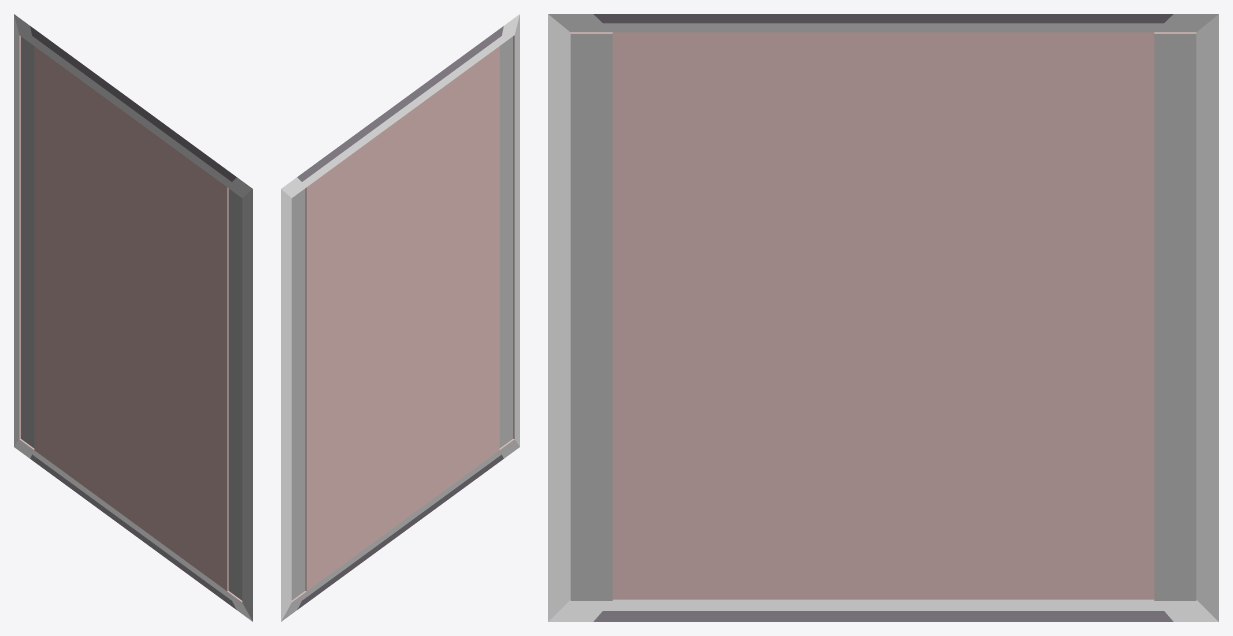
The model's file is VoidGenerator.fbx.
The picture shows the model from 3 angles, left to right: view 1: azimuth 30°, elevation 25°; view 2: azimuth 150°, elevation 25°; view 3: azimuth 270°, elevation 25°; orthographic projection. The views are drawn at different scales.
Visible parts, largest first — view 1: Plane; view 2: Plane; view 3: Plane.
Boxes of the visible parts, bbox=[...] form: Plane: bbox=[14, 14, 252, 621]; Plane: bbox=[281, 14, 519, 621]; Plane: bbox=[548, 14, 1218, 621].
Bounding box in the file's own units: 1.36 × 200 × 200.
